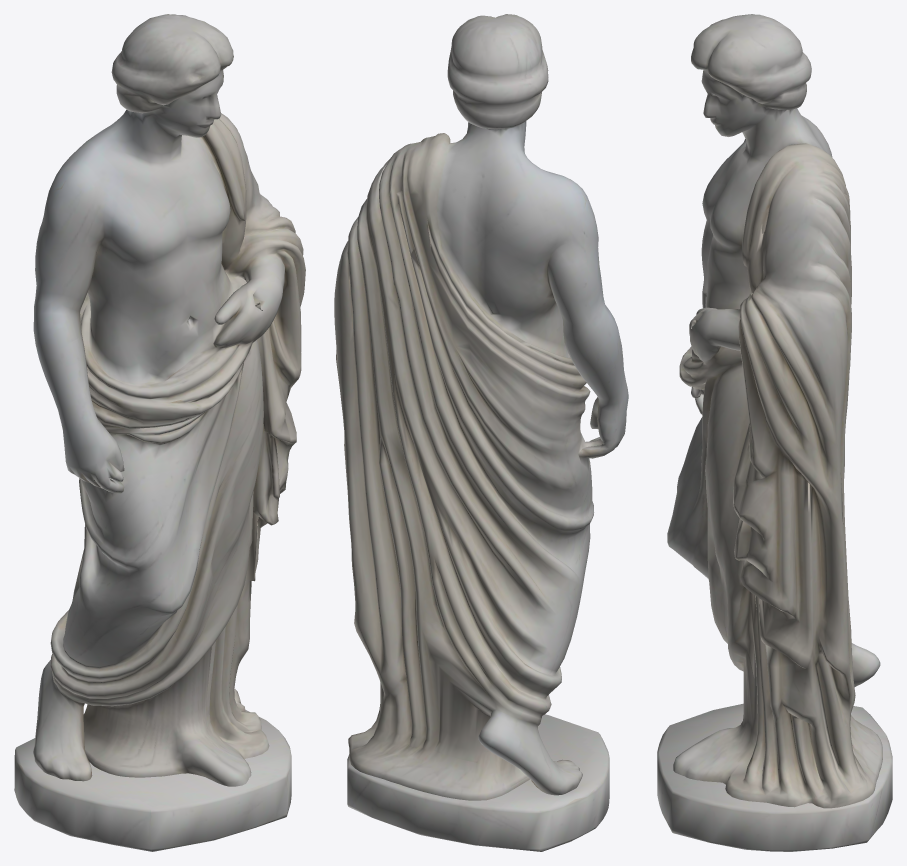
Rendered from Decor__a_marble_statue_7696eaf1_v4.cluster.glb.
The picture shows the model from 3 angles, left to right: view 1: azimuth 30°, elevation 25°; view 2: azimuth 150°, elevation 25°; view 3: azimuth 270°, elevation 25°; orthographic projection. The views are drawn at different scales.
Visible parts, largest first — view 1: material; view 2: material; view 3: material.
Part boxes in pixels (x1=…): material: x1=14, y1=14, x2=305, y2=851; material: x1=334, y1=14, x2=628, y2=851; material: x1=657, y1=14, x2=892, y2=851.
Bounding box in the file's own units: 0.6795 × 1.9 × 0.5214.
1 material, 1 textured.
